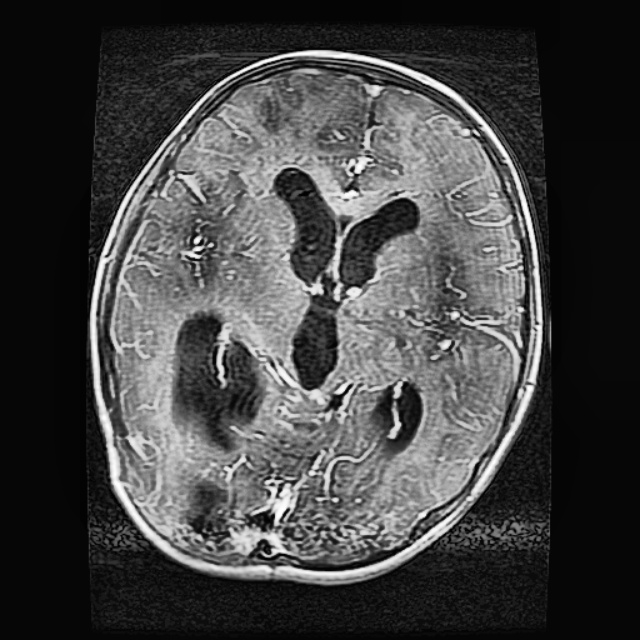Glioma: (162, 314, 265, 462)
